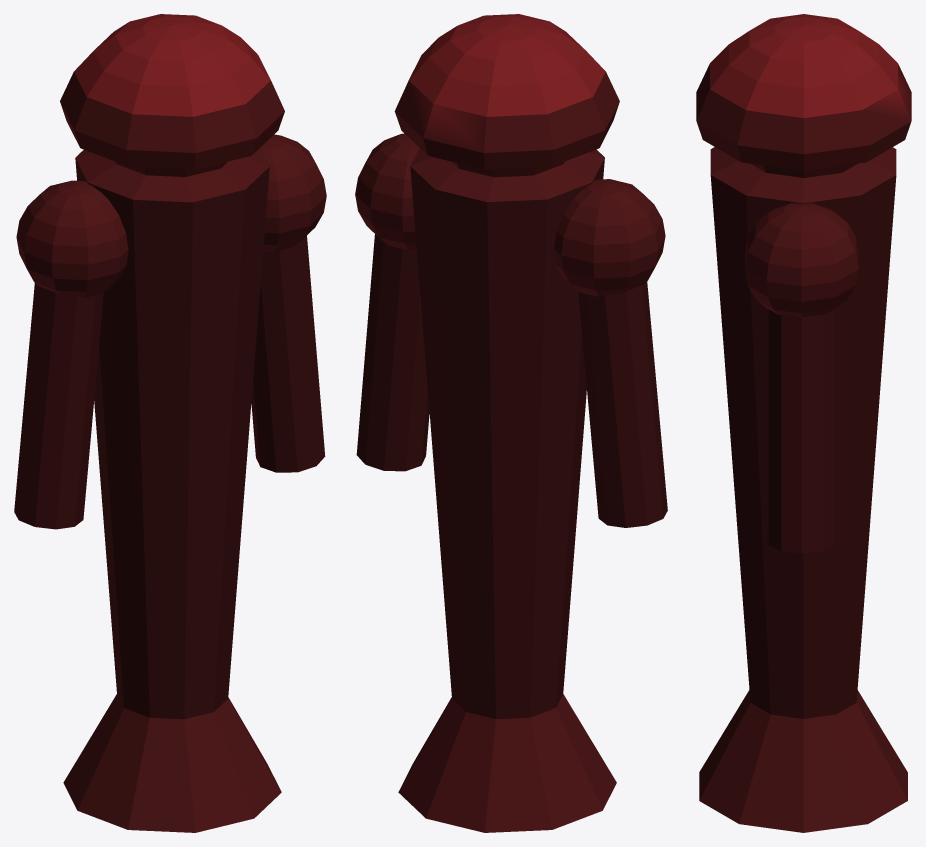
The model's file is 2LucasBozzi_889208.fbx_MonsterJellyfish.fbx.
3 renders of one model, left to right at view 1: azimuth 30°, elevation 25°; view 2: azimuth 150°, elevation 25°; view 3: azimuth 270°, elevation 25°, orthographic.
Parts seen in each view (by area): view 1: MonsterJellyfish; view 2: MonsterJellyfish; view 3: MonsterJellyfish.
Part boxes in pixels (bbox=[...]): MonsterJellyfish: bbox=[14, 14, 326, 832]; MonsterJellyfish: bbox=[355, 14, 667, 832]; MonsterJellyfish: bbox=[696, 14, 911, 832].
Size of the model in its own units: 357 by 860 by 220.
